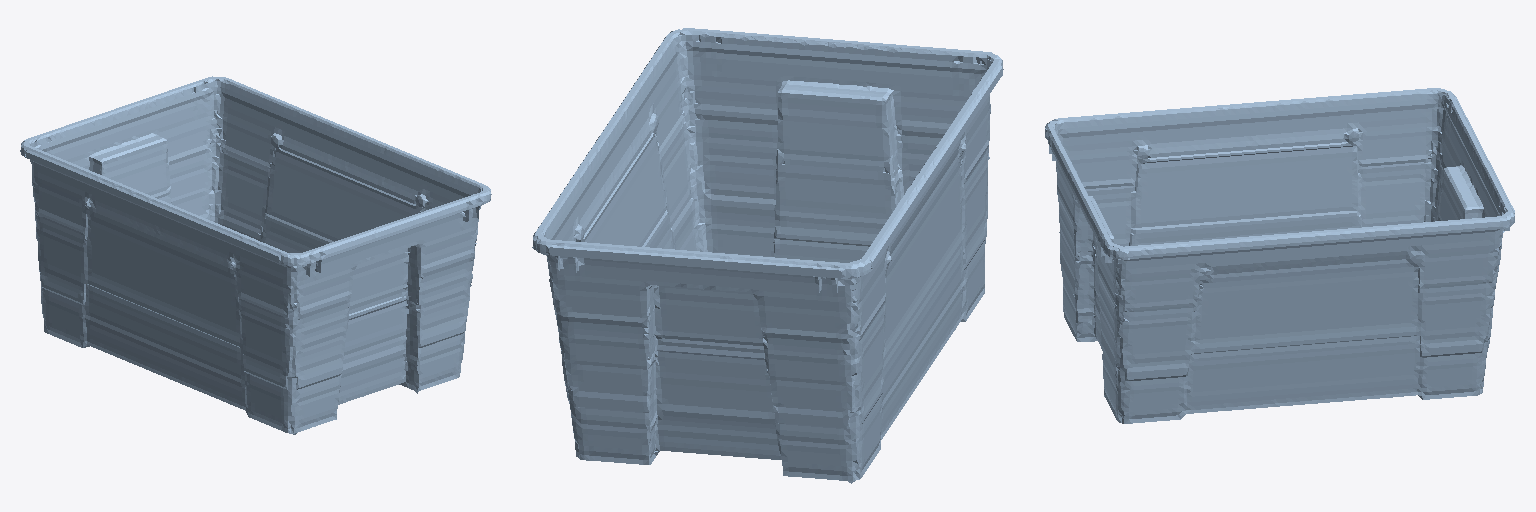
The robot description file, URDF, robot "plasticbox.urdf":
<?xml version="1.0" ?>
<robot name="plasticbox.urdf">
  <dynamics damping="0.5" friction="0.9"/>
  <link name="baseLink">
    <contact>
      <lateral_friction value="0.9"/>
      <rolling_friction value="0.5"/>
      <stiffness value="30000"/>
      <damping value="1000"/>
    </contact>
    <visual>
      <origin rpy="0 0 0" xyz="0 0 0"/>
      <geometry>
        <mesh filename="meshes/plasticbox/plasticbox.stl" scale="1.0 1.0 1.0"/>
      </geometry>
       <material name="mat">
        <color rgba="0.7 0.8 0.9 1"/>
      </material>
    </visual>
    <collision>
      <origin rpy="0 0 0" xyz="0 0 0"/>
      <geometry>
	 	<mesh filename="meshes/plasticbox/plasticbox.stl" scale="1.0 1.0 1.0"/>
      </geometry>
    </collision>
  </link>
</robot>

--- What the picture shows (computed from the rendered views, not written in the file) ---
Views: 3 orthographic renders of the robot side by side, from view 1: azimuth 30°, elevation 25°; view 2: azimuth 150°, elevation 25°; view 3: azimuth 270°, elevation 25°.
Model plasticbox.urdf with 1 links and 0 joints (none), rooted at baseLink, posed all joints at 0.
Visible links, largest first — view 1: baseLink; view 2: baseLink; view 3: baseLink.
Boxes of the visible links, left/top/right/bottom form: baseLink: left=20, top=76, right=491, bottom=434; baseLink: left=532, top=28, right=1003, bottom=483; baseLink: left=1045, top=88, right=1514, bottom=423.
Bounding box of the posed robot: 0.492 × 0.617 × 0.3018 m (x, y, z).
Meshes: 1 distinct files referenced, 1 mesh visuals loaded (1 binary STL).
